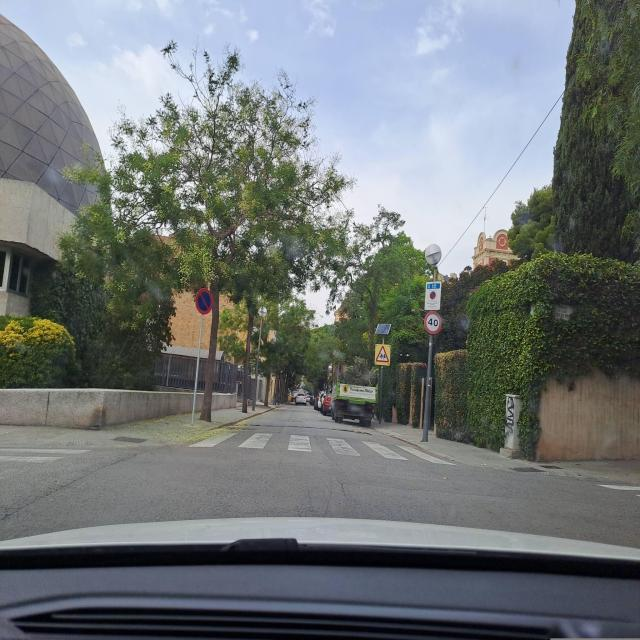car: (331, 382, 376, 426), (322, 394, 333, 416), (314, 392, 324, 410), (295, 391, 307, 405), (305, 392, 313, 404)
